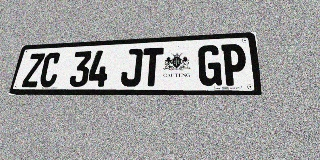3: (68, 51, 92, 87)
4: (87, 50, 111, 87)
C: (38, 52, 62, 87)
G: (198, 45, 222, 86)
J: (120, 48, 143, 86)
P: (221, 43, 247, 86)
T: (141, 47, 164, 86)
Z: (21, 53, 45, 87)
